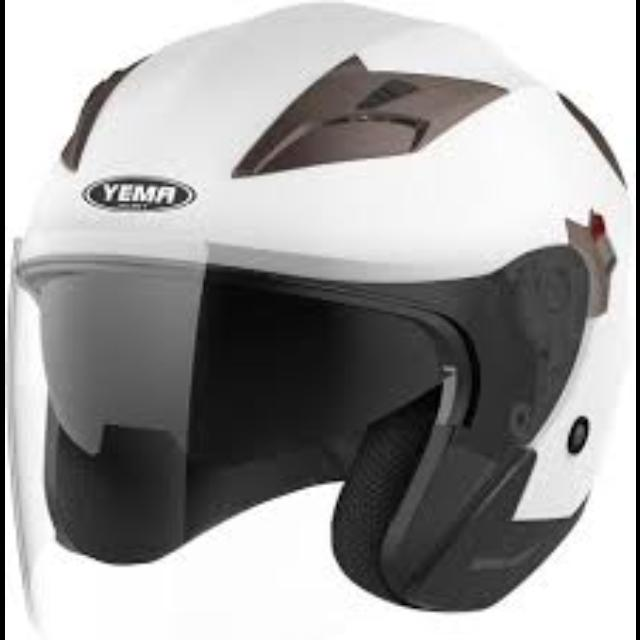motorcycle-helmets: (15, 6, 624, 609)
